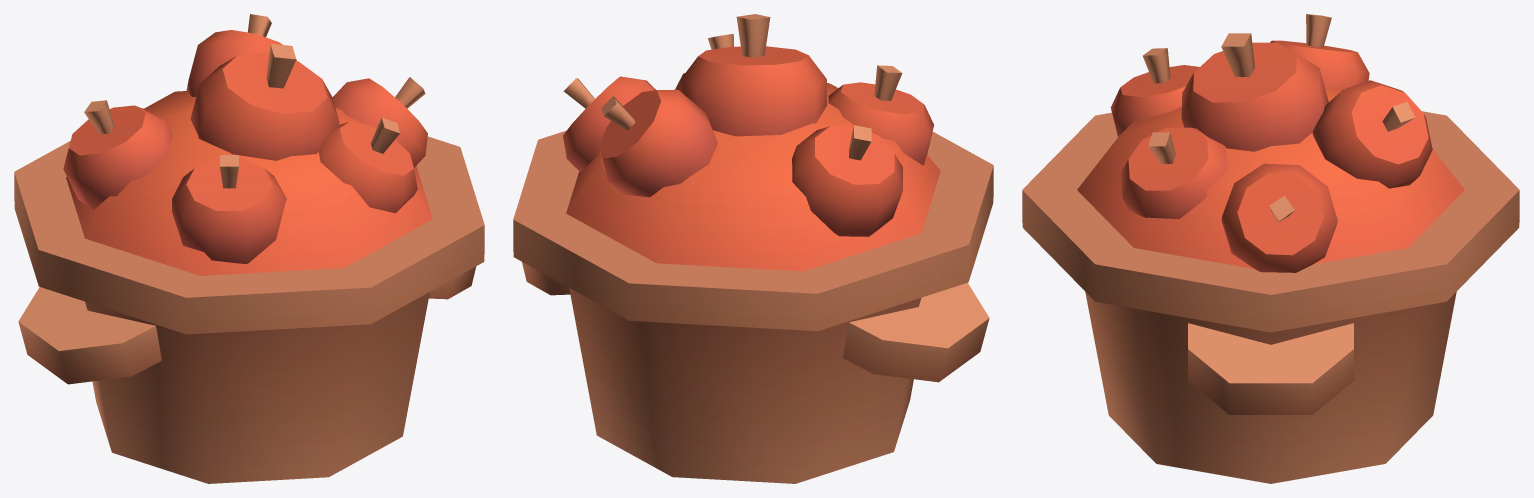
The model's file is kenney-mini-market-display-fruit.glb.
The picture shows the model from 3 angles, left to right: view 1: azimuth 30°, elevation 25°; view 2: azimuth 150°, elevation 25°; view 3: azimuth 270°, elevation 25°; orthographic projection. The views are drawn at different scales.
Parts seen in each view (by area): view 1: display-fruit; view 2: display-fruit; view 3: display-fruit.
Part boxes in pixels (x1=…): display-fruit: x1=14, y1=14, x2=484, y2=483; display-fruit: x1=513, y1=14, x2=993, y2=483; display-fruit: x1=1022, y1=14, x2=1519, y2=483.
Size of the model in its own units: 0.6 by 0.516 by 0.6.
Materials: 1 (1 with a texture image).
